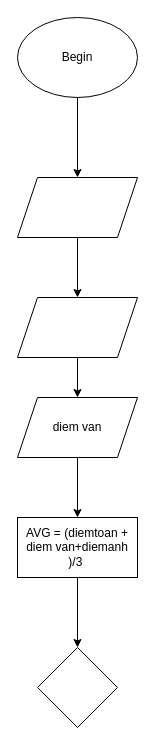
Some shapes in this 155 by 745 pixel diagram are drawn without their labels. Each missing label, with the centre of its shape:
diem anh: pixel 77 207
diem toan: pixel 77 327
